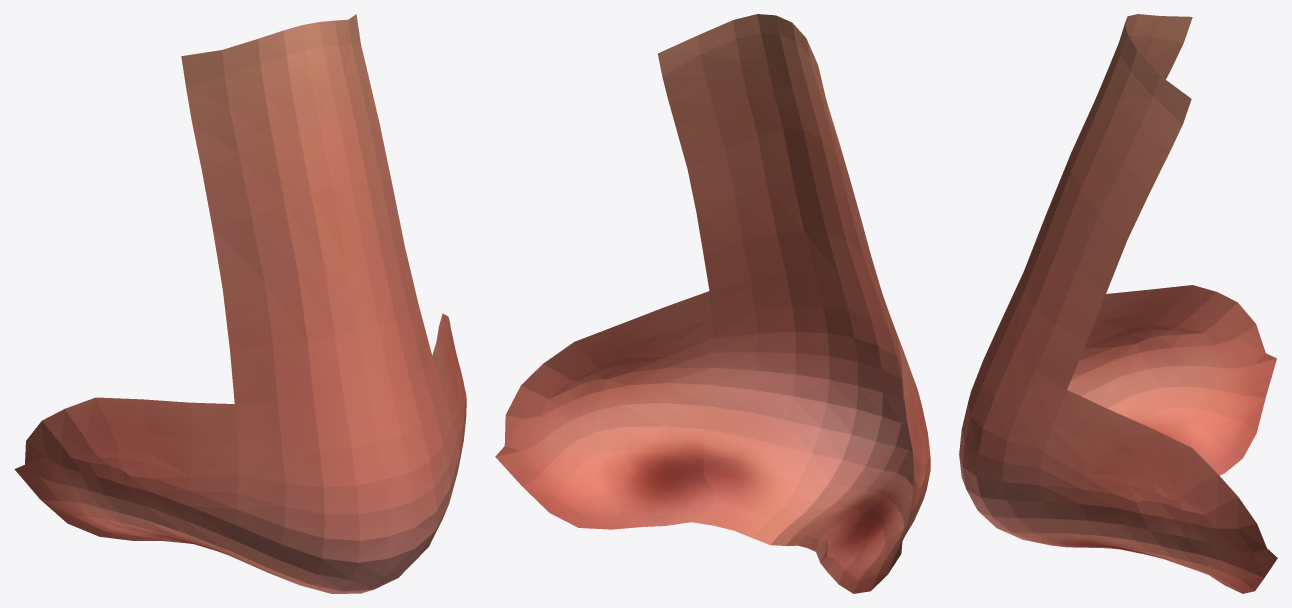
Rendered from euro-nose-tilt-down.obj.
The picture shows the model from 3 angles, left to right: view 1: azimuth 30°, elevation 25°; view 2: azimuth 150°, elevation 25°; view 3: azimuth 270°, elevation 25°; orthographic projection. The views are drawn at different scales.
Visible parts, largest first — view 1: euro-nose-tilt-down.001; view 2: euro-nose-tilt-down.001; view 3: euro-nose-tilt-down.001.
Part boxes in pixels (bbox=[...]): euro-nose-tilt-down.001: bbox=[14, 14, 466, 593]; euro-nose-tilt-down.001: bbox=[495, 14, 930, 593]; euro-nose-tilt-down.001: bbox=[959, 14, 1277, 593].
Size of the model in its own units: 0.2541 by 0.3147 by 0.1728.
1 material, 1 textured.
